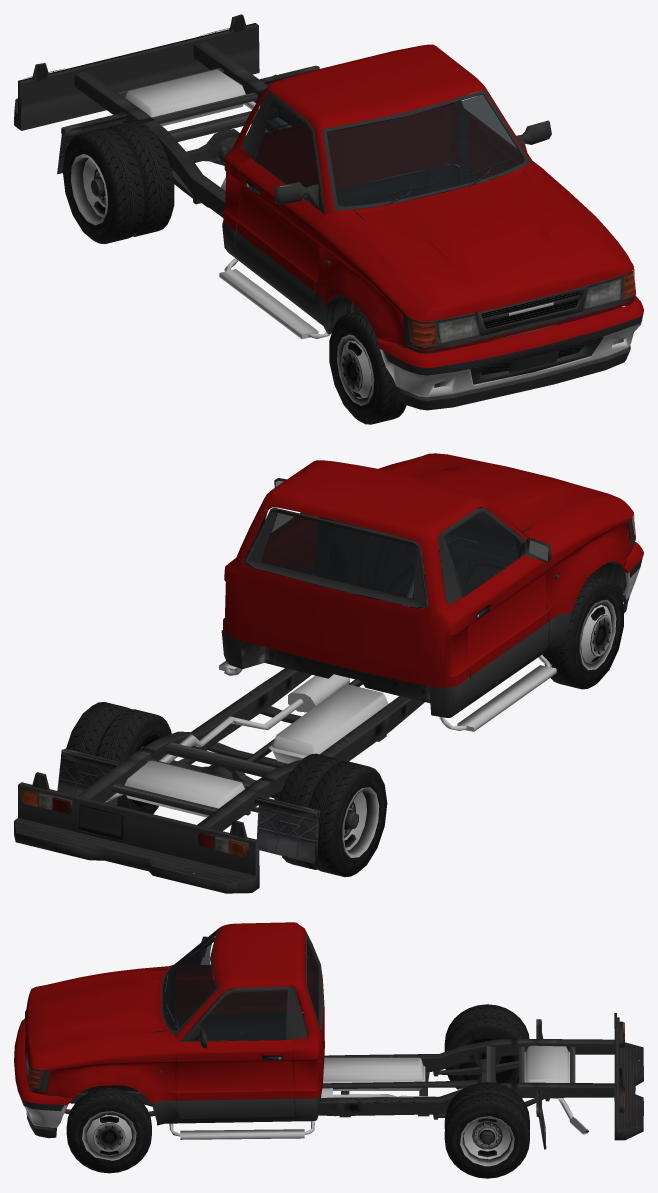
The model's file is flatbed.glb.
3 renders of one model, top to bottom at view 1: azimuth 30°, elevation 25°; view 2: azimuth 150°, elevation 25°; view 3: azimuth 270°, elevation 25°, orthographic. The views are drawn at different scales.
Parts seen in each view (by area): view 1: body; view 2: body; view 3: body.
Part boxes in pixels (x1,y1,x2,y2): body: [14, 14, 643, 424]; body: [14, 453, 643, 893]; body: [14, 922, 643, 1178].
Bounding box in the file's own units: 2.16 × 1.79 × 5.7.
5 materials, 4 textured.
